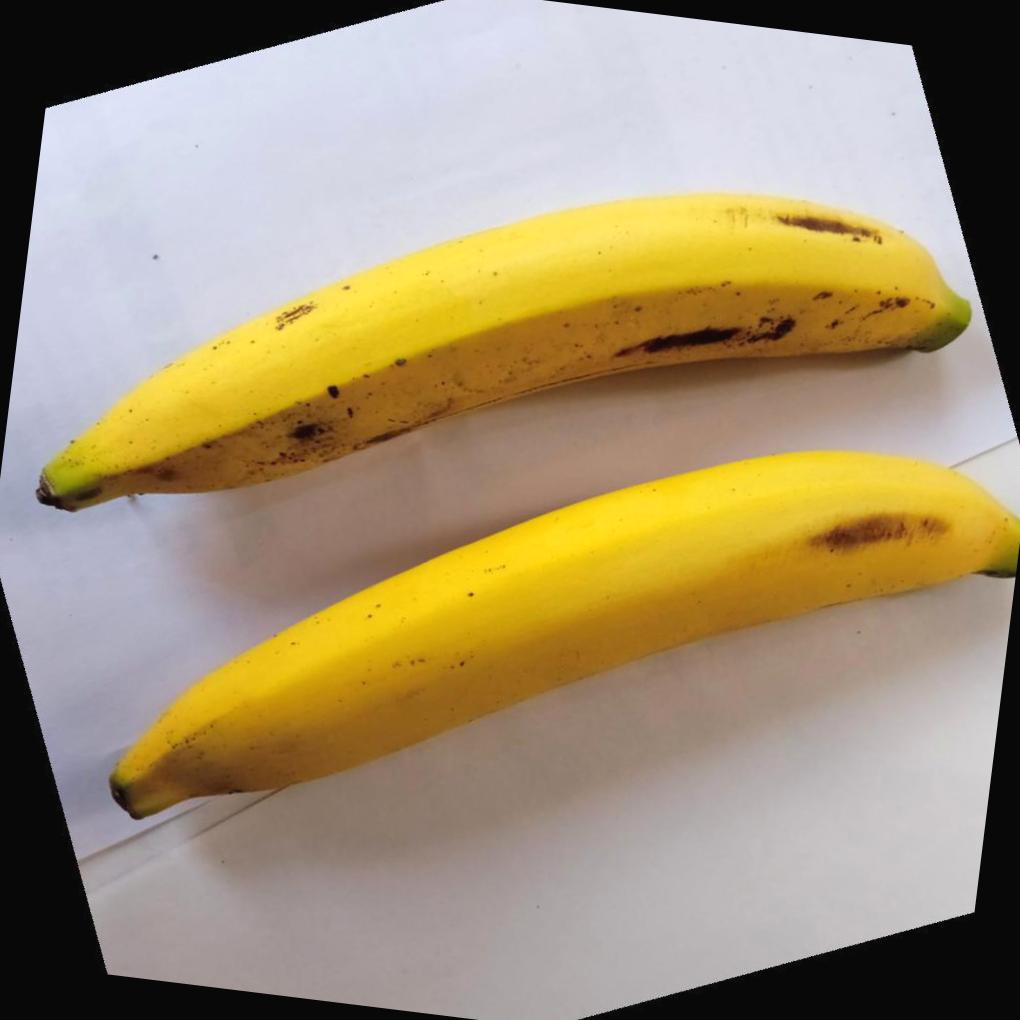Banana Ripe: (0, 51, 1009, 699), (71, 327, 1020, 978)
